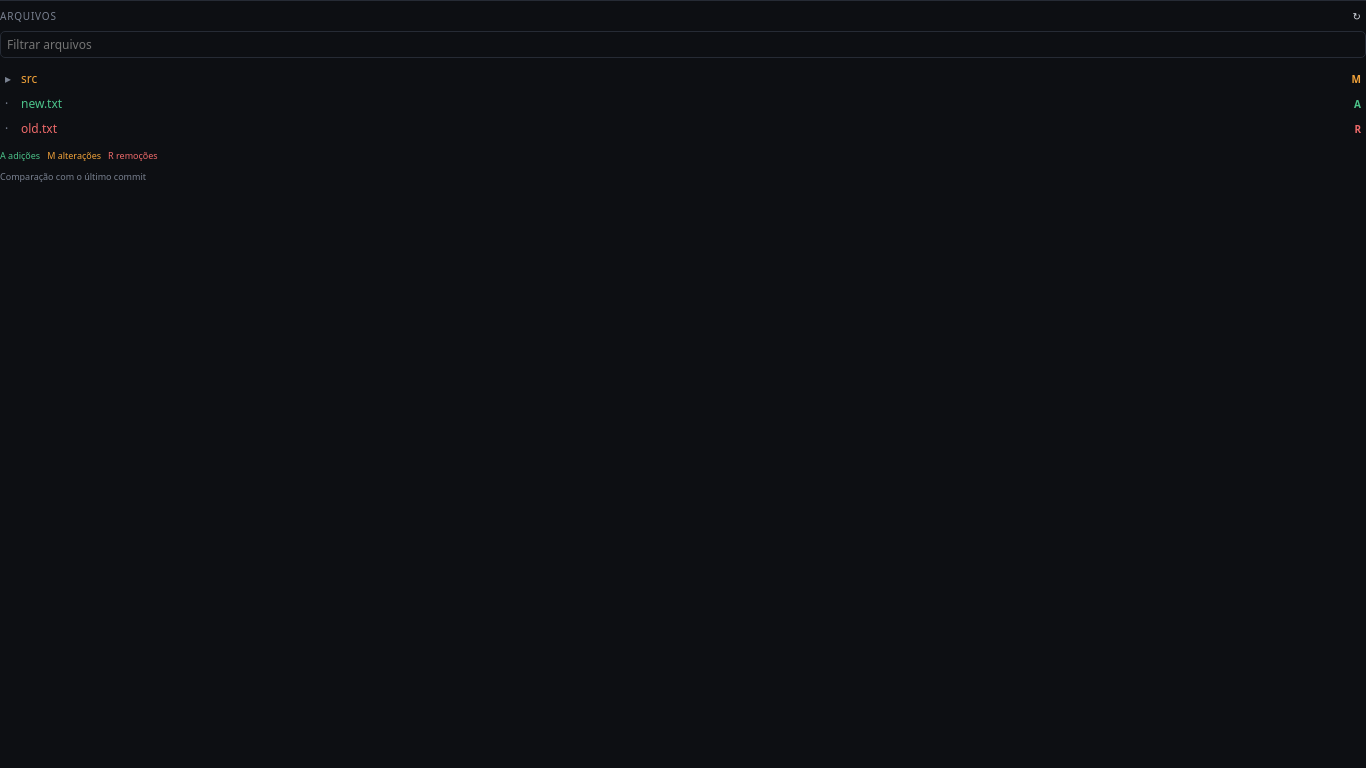
it: navega por pastas, mostra as cores e abre alterações de um arquivo
What coordinates should you click on to do the following:
click the list item with test id "file-src"
I would click on:
 (8, 78)
Its box is [0,66,1365,91].
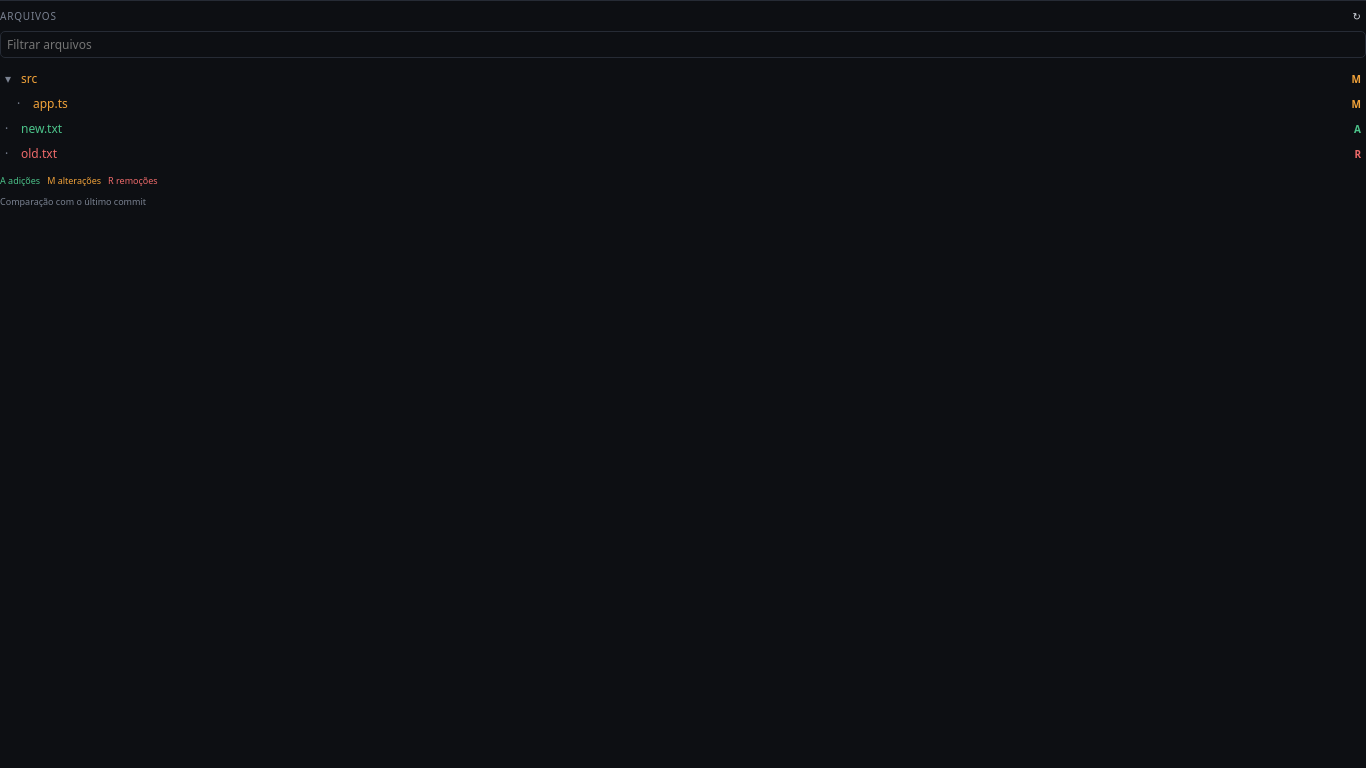
What coordinates should you click on to do the following:
click the list item with test id "file-src/app.ts"
I would click on:
 (50, 104)
Its box is [0,91,1365,116].
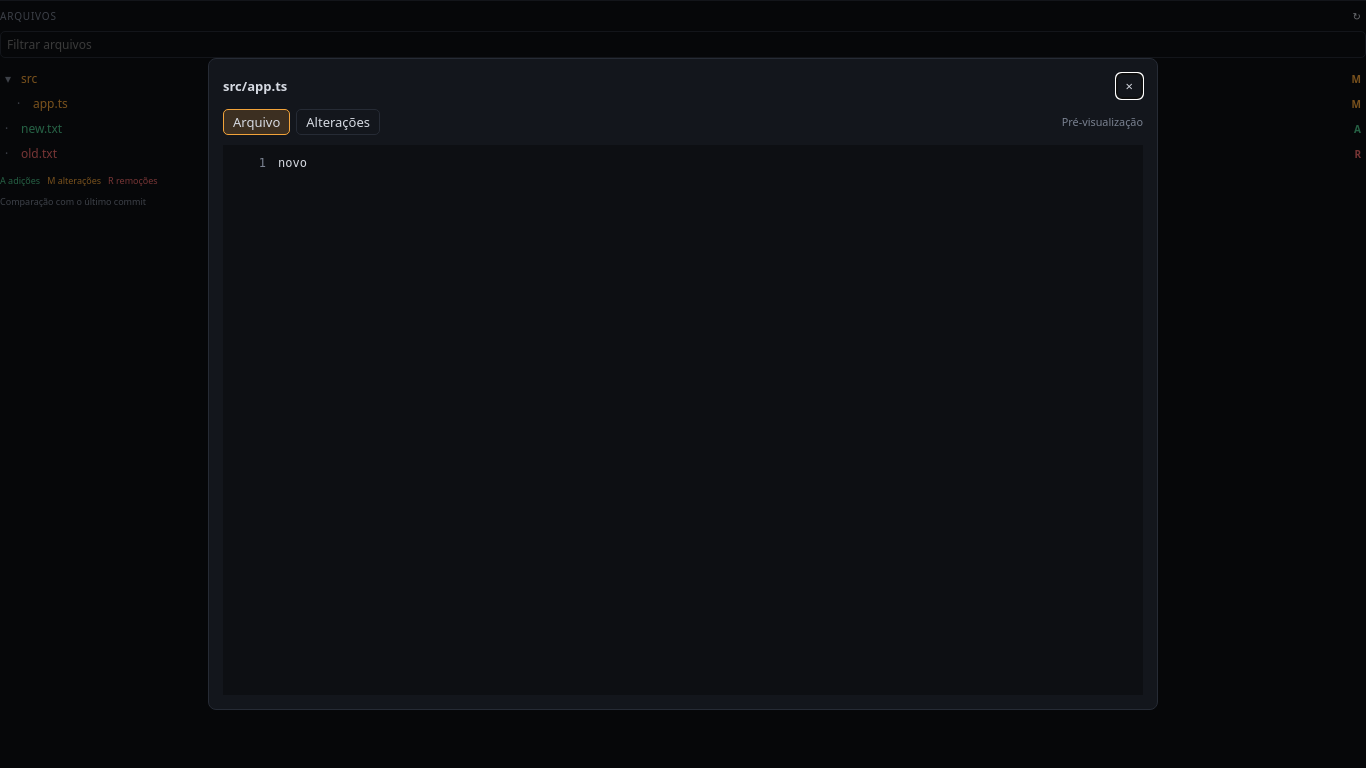
Now the text "novo" is shown, box [278,156,307,170]
What coordinates should you click on to do the following:
click the button "Alterações"
I would click on:
 (338, 122)
Its box is [296,109,380,135].
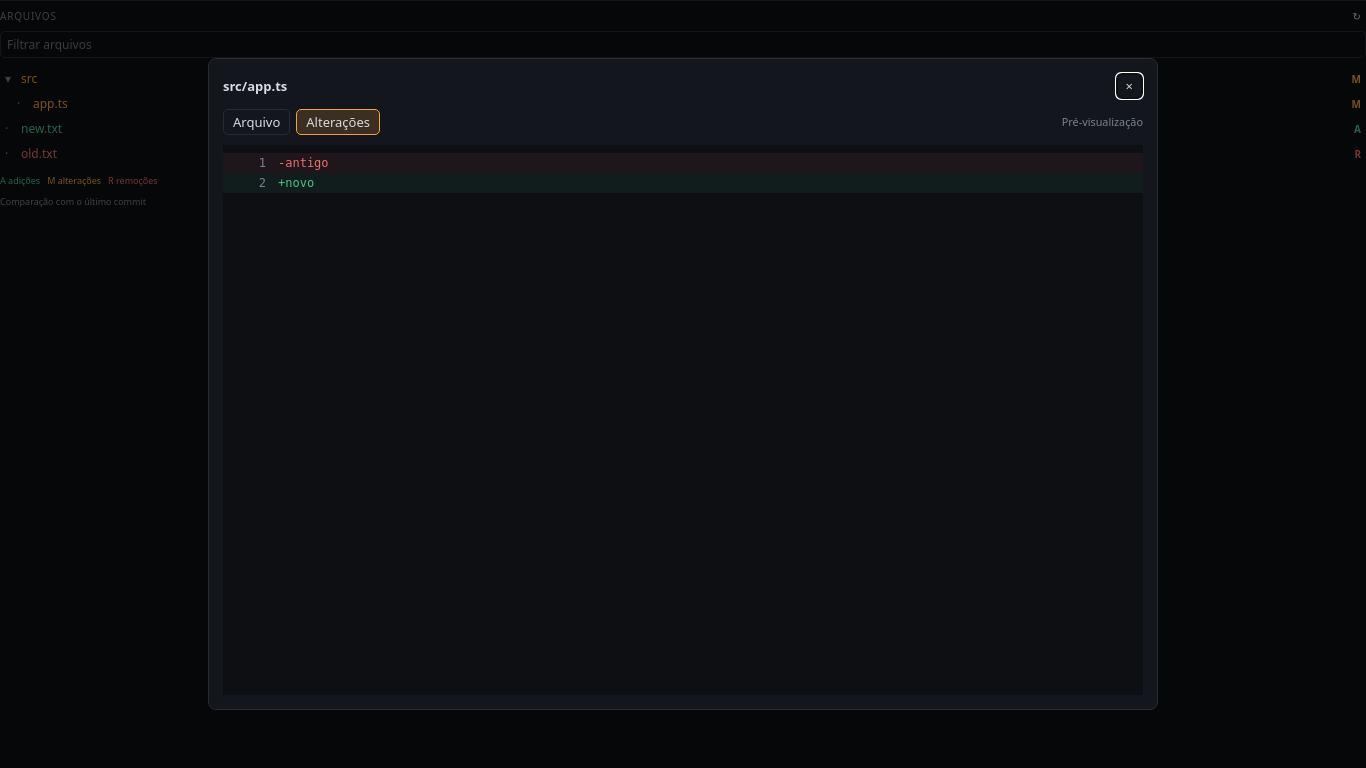
What coordinates should you click on to do the following:
click the button named "Fechar arquivo"
I would click on:
 (1129, 86)
Its box is [1116,73,1143,99].
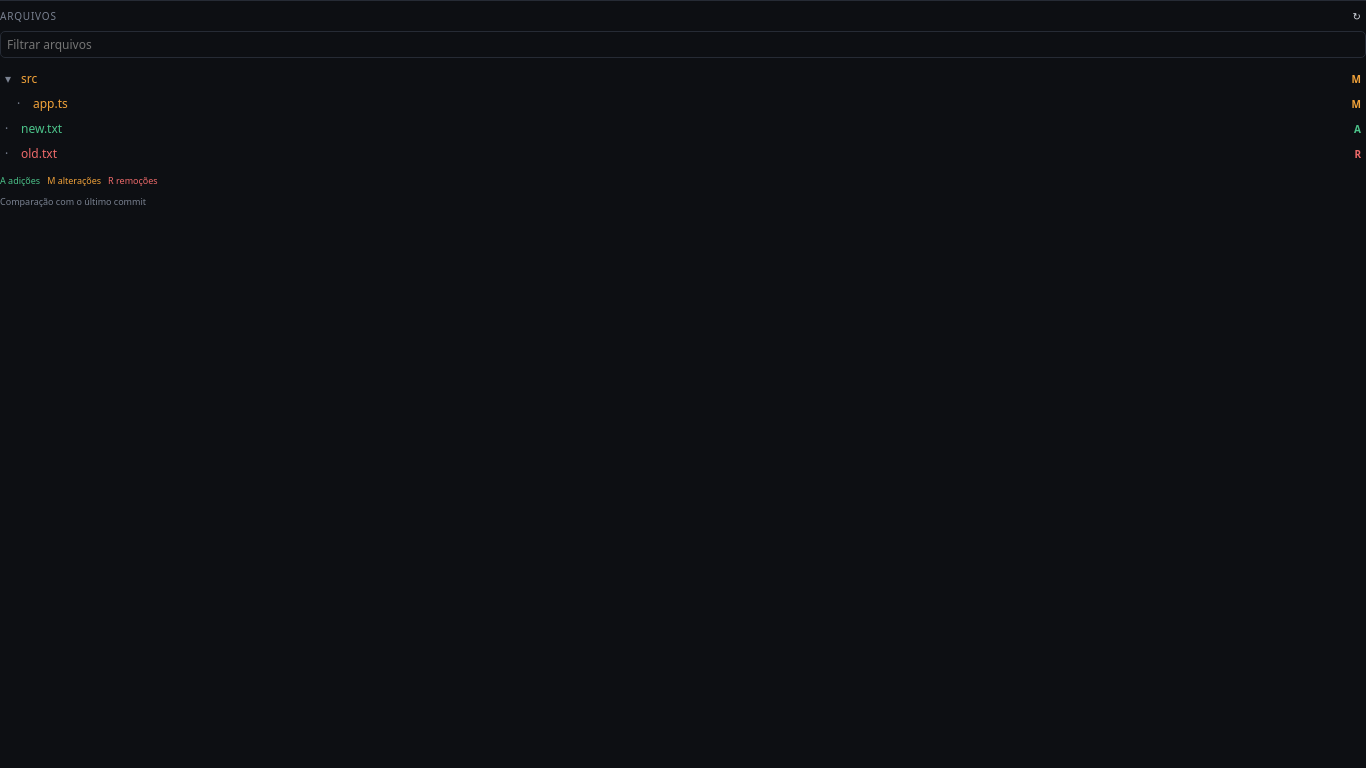
Now the dialog is gone
